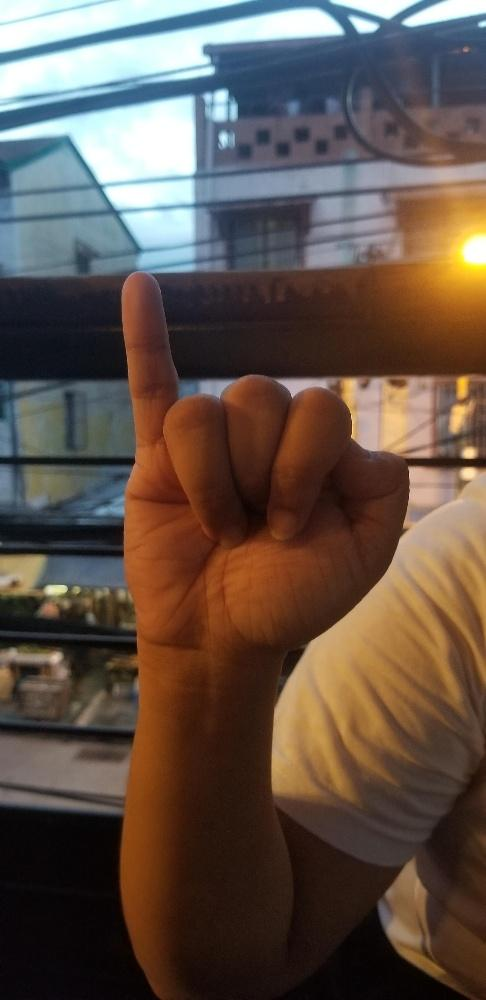i: (118, 270, 412, 647)
